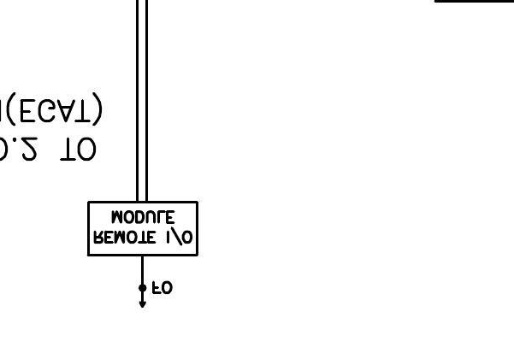remote_io_module: (87, 201, 199, 257)
